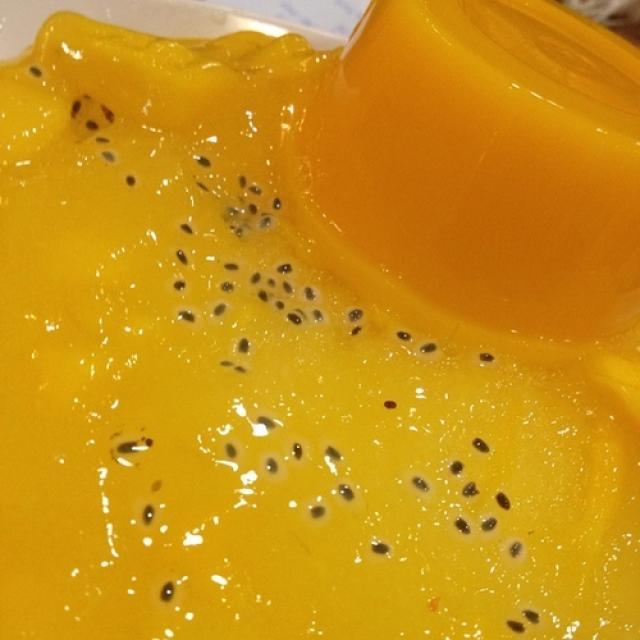蛋糕甜品: (11, 13, 630, 618)
